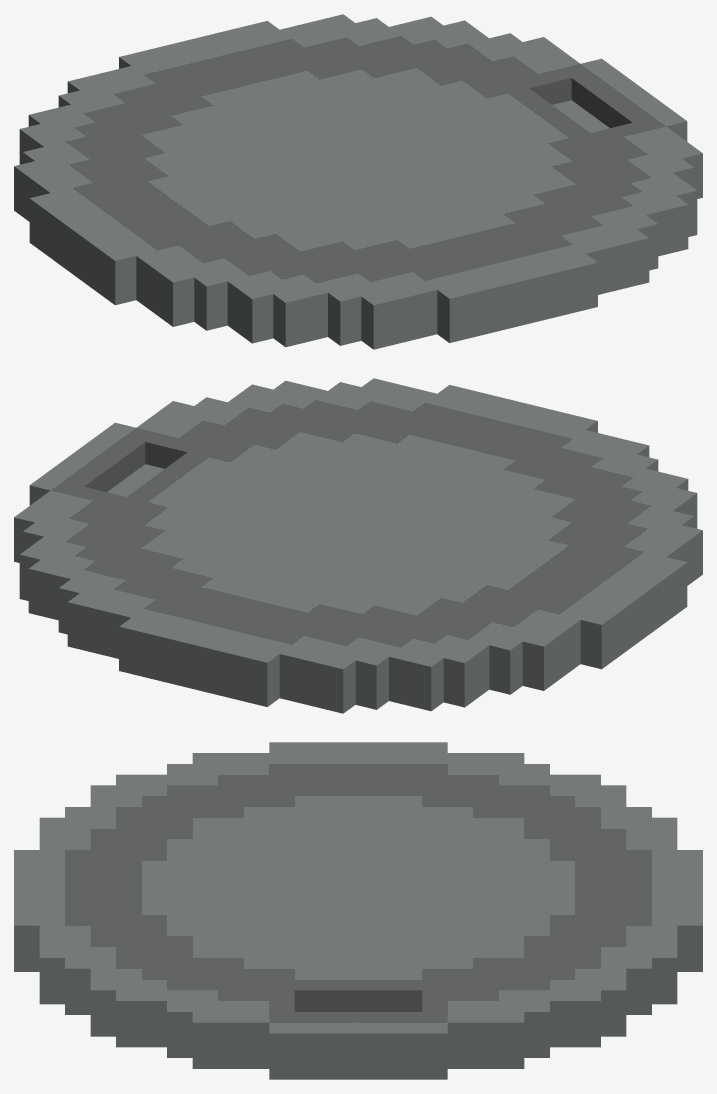
File: kalapa_do_kanalow.dae
3 renders of one model, top to bottom at view 1: azimuth 30°, elevation 25°; view 2: azimuth 150°, elevation 25°; view 3: azimuth 270°, elevation 25°, orthographic. The views are drawn at different scales.
Visible parts, largest first — view 1: Content; view 2: Content; view 3: Content.
Part boxes in pixels (box(x1,y1,x2,y2)): Content: box(14, 14, 702, 349); Content: box(14, 378, 702, 713); Content: box(14, 742, 702, 1079).
Bounding box in the file's own units: 27 × 2 × 27.
Materials: 1 (1 with a texture image).
